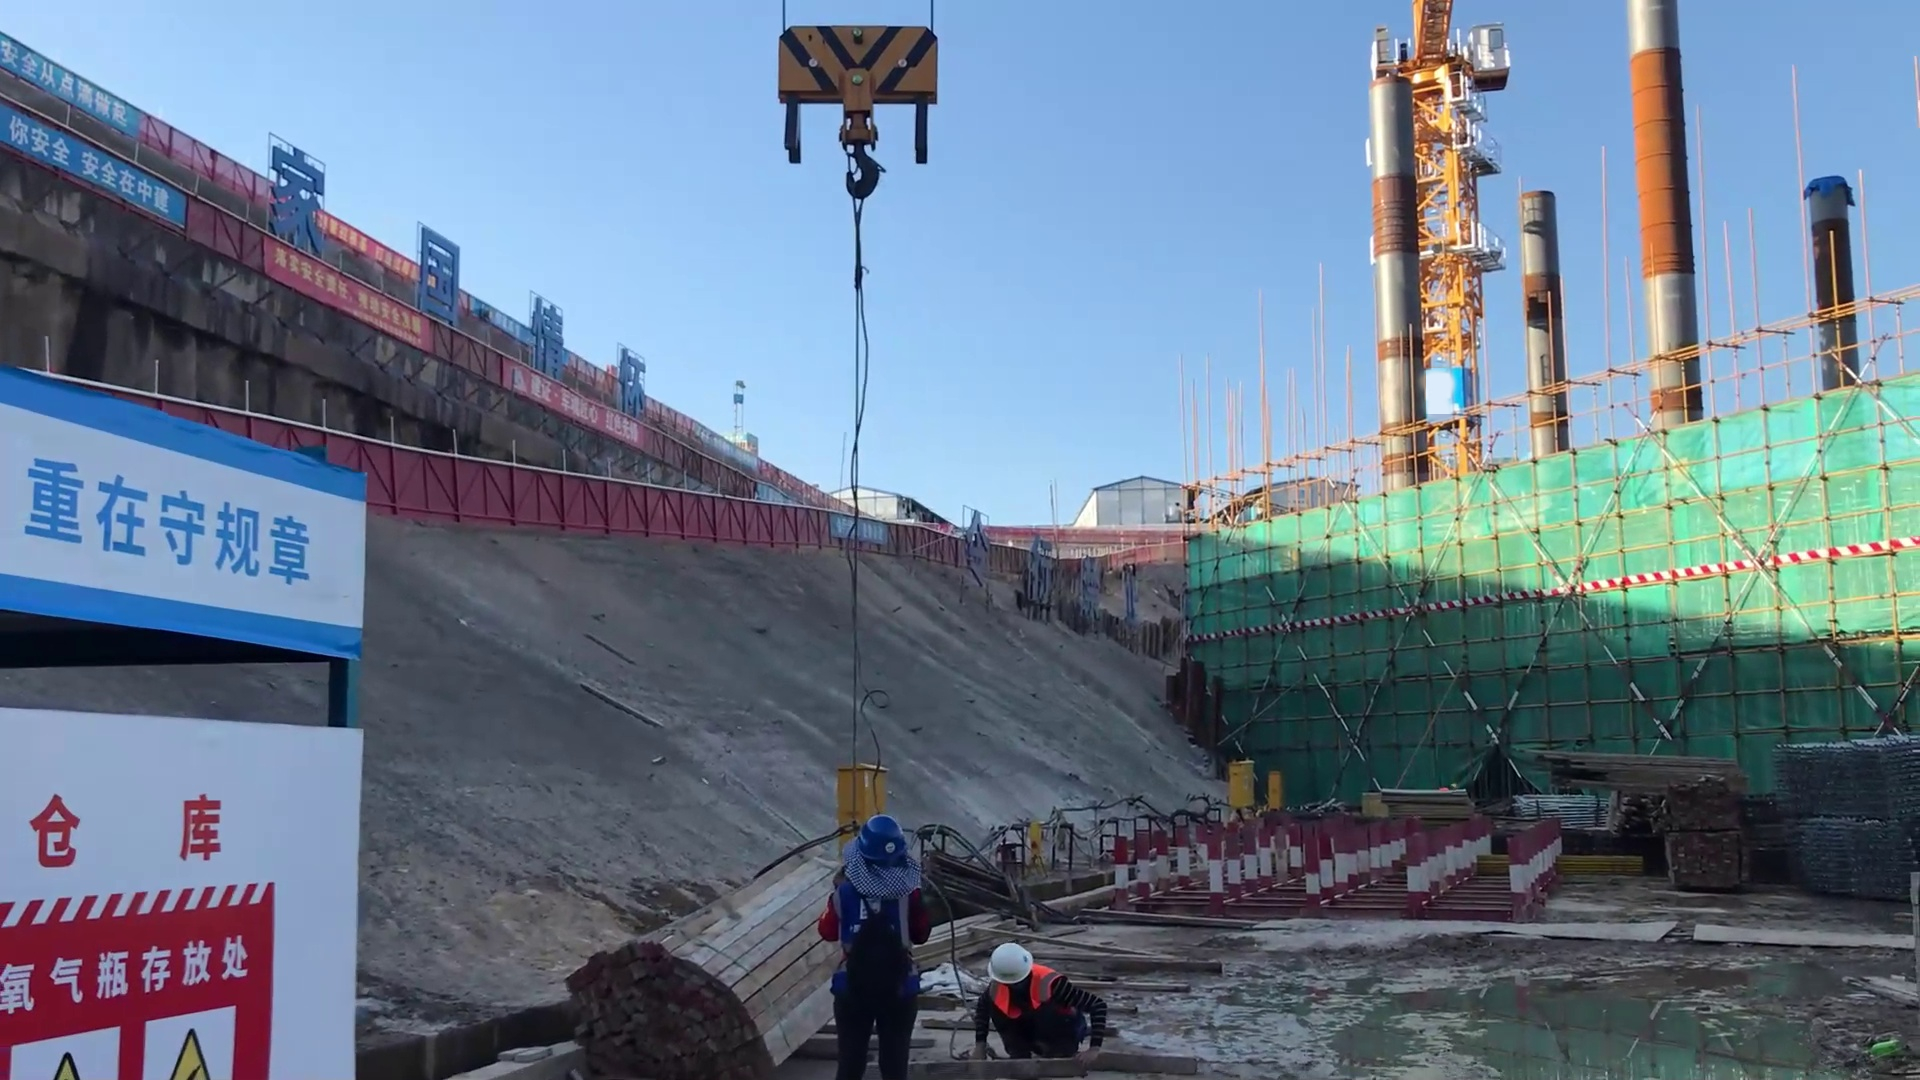ebox: (836, 746, 892, 820), (1220, 750, 1254, 808), (1263, 767, 1285, 801)
fence: (360, 426, 710, 563), (707, 485, 910, 557)
helmet: (835, 788, 913, 894), (984, 934, 1051, 989)
hook: (781, 26, 937, 170)
person: (814, 802, 934, 1080), (971, 945, 1127, 1073)
scaffold: (1798, 815, 1915, 913), (1776, 742, 1895, 829)
slogan: (8, 457, 349, 622), (10, 882, 255, 1080), (248, 211, 448, 361), (7, 127, 199, 257), (1, 29, 149, 138)
vest: (988, 981, 1070, 1037)
wood: (564, 816, 818, 1080), (1526, 731, 1752, 792)
